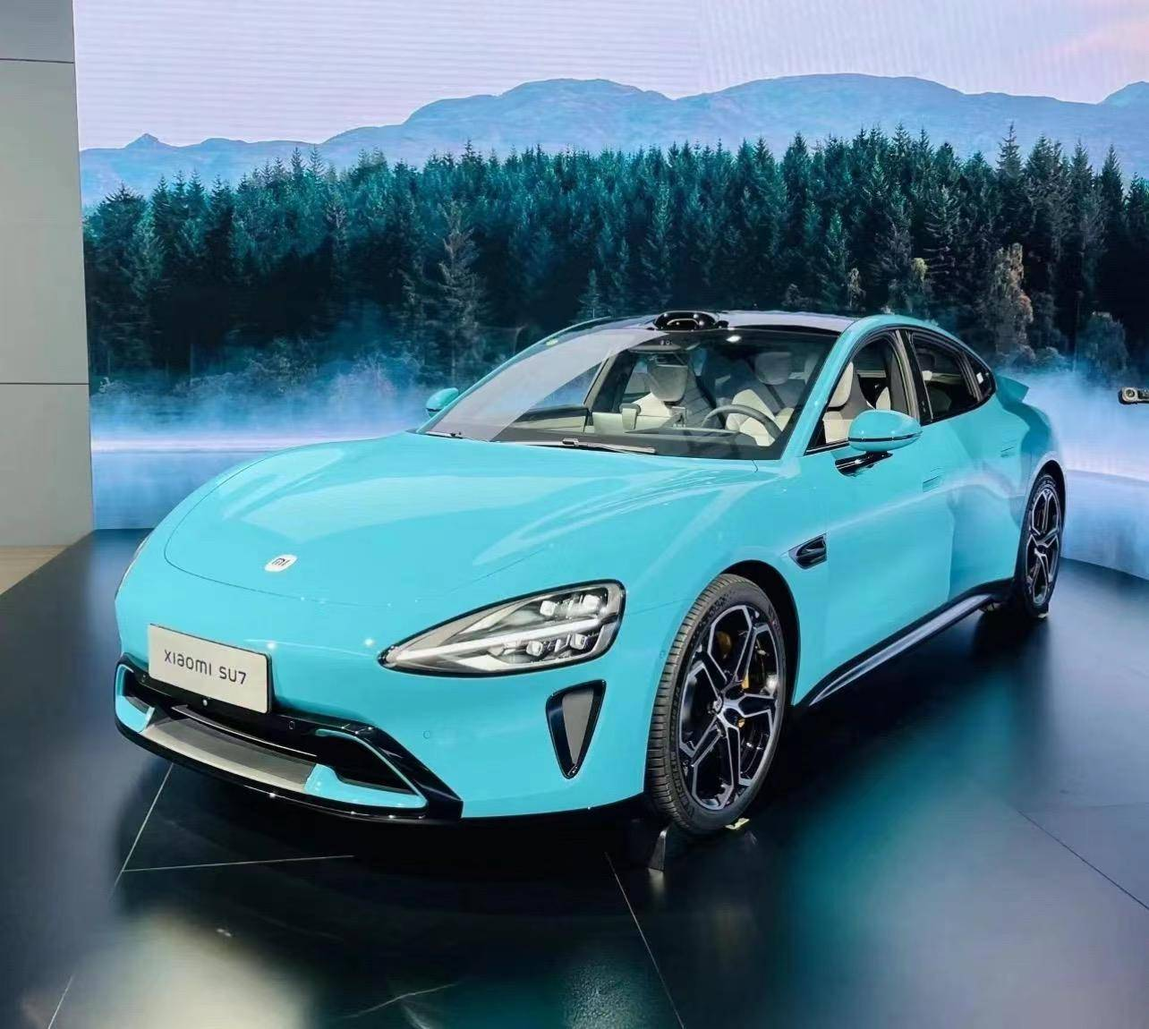su7: (118, 299, 1068, 848)
